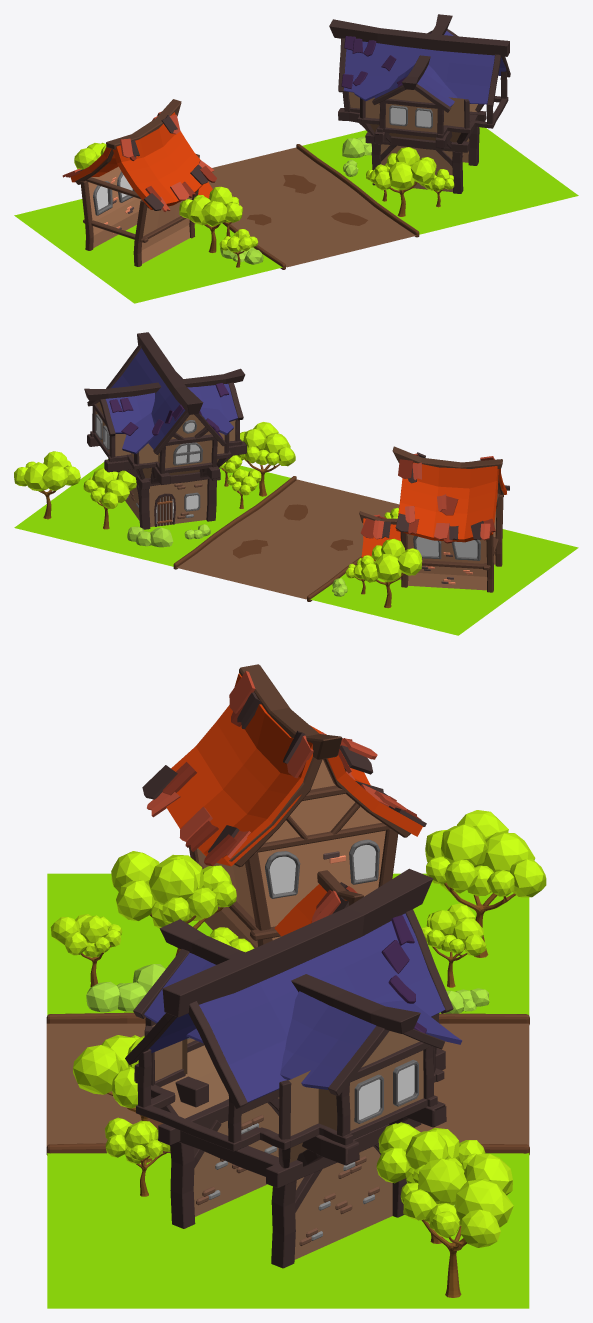
The model's file is RoadNature_1.fbx.
The picture shows the model from 3 angles, top to bottom: view 1: azimuth 30°, elevation 25°; view 2: azimuth 150°, elevation 25°; view 3: azimuth 270°, elevation 25°; orthographic projection. The views are drawn at different scales.
Parts seen in each view (by area): view 1: Plane, Beams.005, Plane.002, Plane.059, Roofs.001, Roofs, Walls, Beams, Walls.005, Plane.073, Plane.075, RoofTiles (+9 smaller); view 2: Plane, Beams.005, Plane.059, Plane.002, Roofs, Roofs.001, Walls.005, Beams, RoofTiles, Walls, Plane.081, Plane.073 (+10 smaller); view 3: Plane.002, Beams.005, Roofs.001, Plane.059, Plane, Walls.005, Roofs, Beams, Walls, Plane.083, Plane.081, RoofTiles (+16 smaller).
Part boxes in pixels (<box>): Plane: <box>208,147,416,267</box>; Beams.005: <box>329,14,510,193</box>; Plane.002: <box>302,127,578,234</box>; Plane.059: <box>14,199,282,303</box>; Roofs.001: <box>343,31,506,106</box>; Roofs: <box>70,112,212,209</box>; Walls: <box>88,166,195,263</box>; Beams: <box>75,99,199,266</box>; Walls.005: <box>349,89,477,191</box>; Plane.073: <box>374,147,436,216</box>; Plane.075: <box>179,186,241,252</box>; RoofTiles: <box>62,111,216,211</box>; Plane: <box>177,479,399,599</box>; Beams.005: <box>84,332,246,529</box>; Plane.059: <box>310,529,578,635</box>; Plane.002: <box>14,459,290,566</box>; Roofs: <box>361,462,506,560</box>; Roofs.001: <box>105,348,237,454</box>; Walls.005: <box>95,402,235,526</box>; Beams: <box>359,446,503,592</box>; RoofTiles: <box>360,452,509,543</box>; Walls: <box>374,509,496,590</box>; Plane.081: <box>360,538,422,608</box>; Plane.073: <box>236,422,295,496</box>; Plane.002: <box>47,1153,529,1308</box>; Beams.005: <box>125,868,453,1268</box>; Roofs.001: <box>144,913,462,1102</box>; Plane.059: <box>47,873,529,1015</box>; Plane: <box>46,1023,529,1146</box>; Walls.005: <box>152,1024,423,1259</box>; Roofs: <box>166,673,422,936</box>; Beams: <box>189,664,410,946</box>; Walls: <box>197,759,385,948</box>; Plane.083: <box>400,1153,513,1297</box>; Plane.081: <box>425,810,546,957</box>; RoofTiles: <box>142,671,426,922</box>.
Size of the model in its own units: 6060 by 1887 by 2877.
8 materials, 3 textured.
